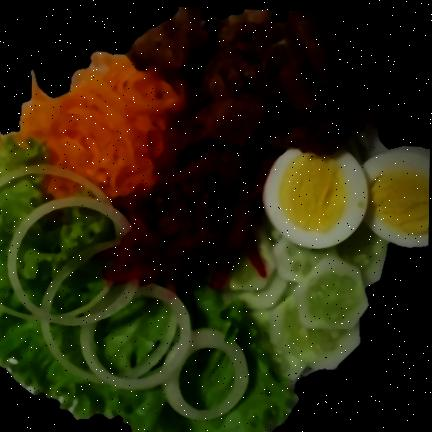beet: (116, 119, 289, 292)
carrot: (0, 55, 186, 204)
cucumber: (221, 226, 392, 383)
egg: (266, 146, 430, 249)
meat: (126, 7, 376, 154)
salad: (0, 139, 295, 432)
